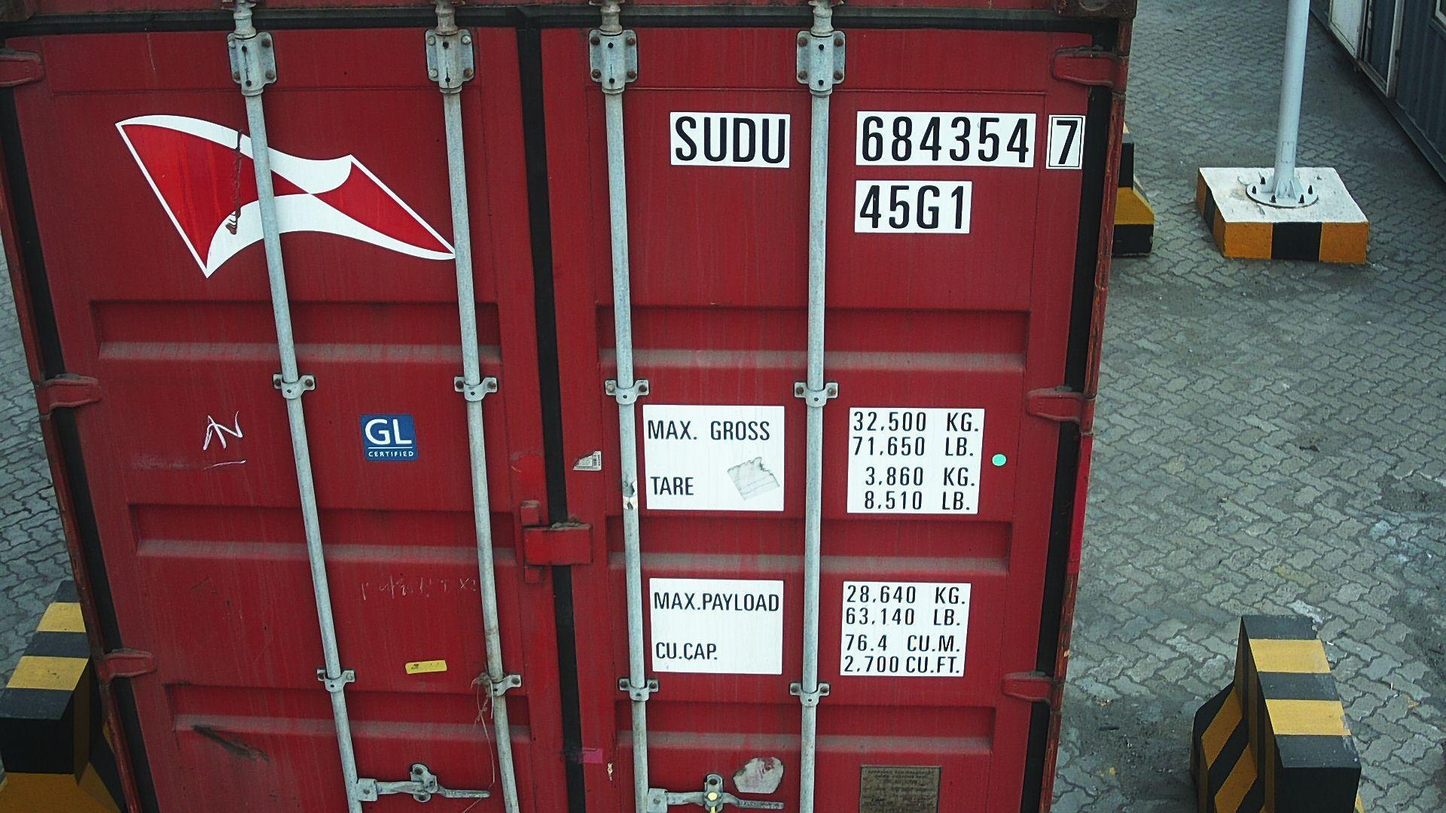container-numbers: (667, 109, 1090, 172), (855, 178, 974, 235)
